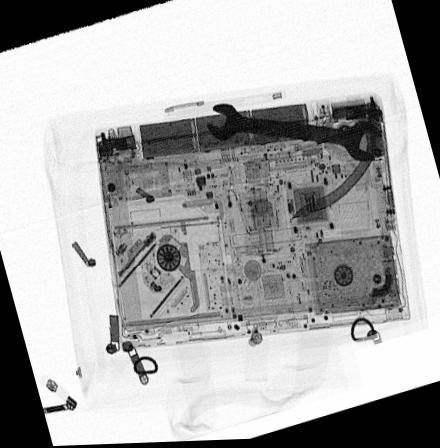Wrench: (205, 102, 383, 165)
